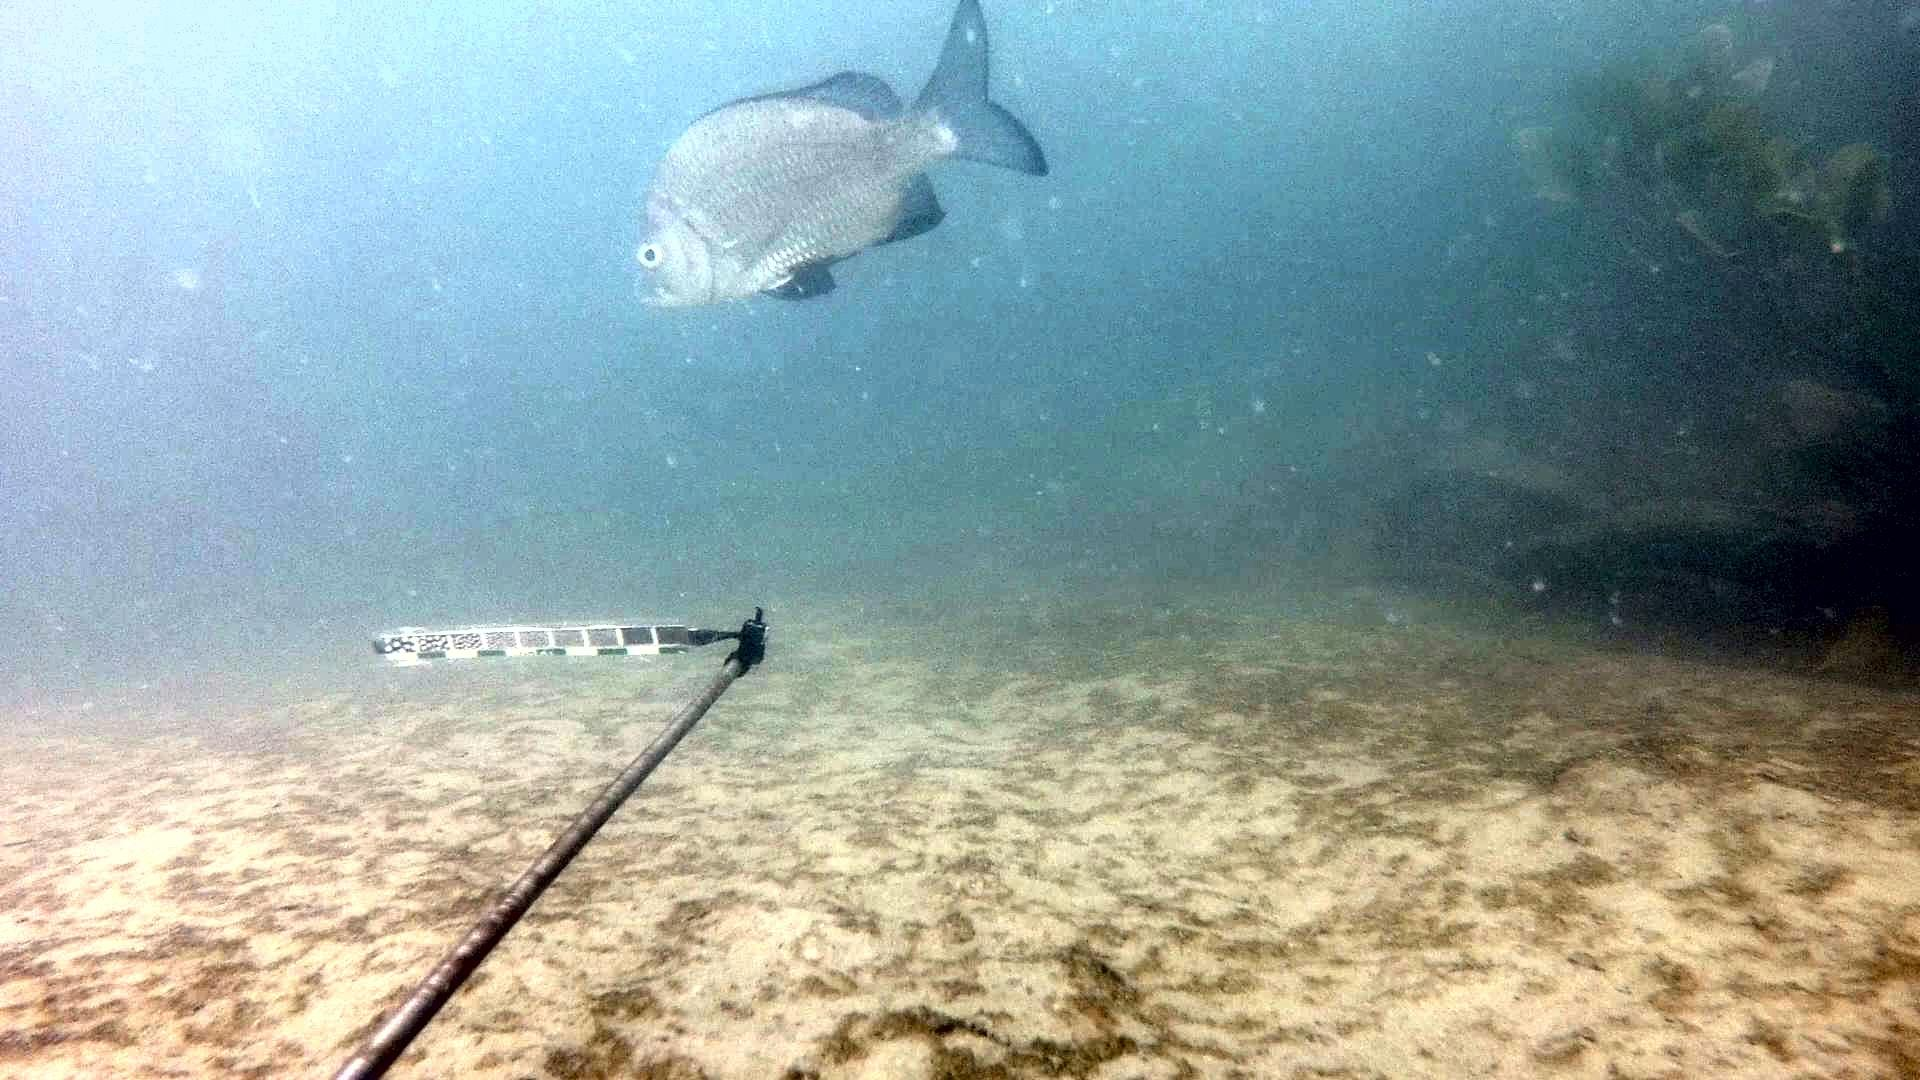acanthopagrus palmaris: (622, 0, 1062, 330)
